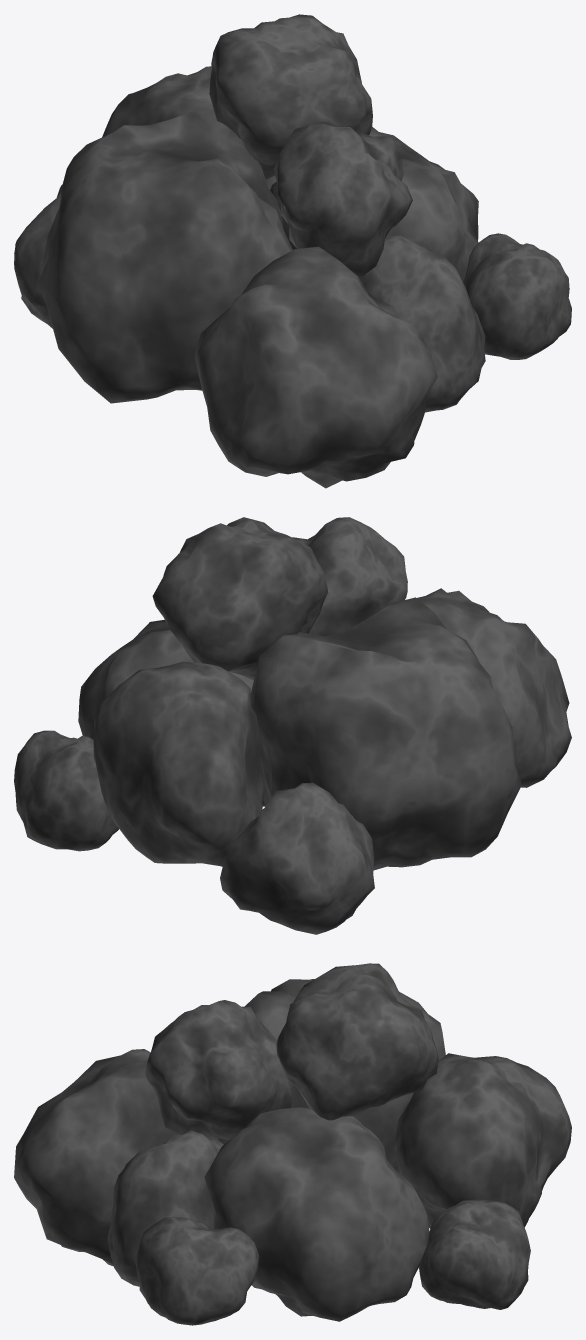
File: boulder_L.glb
3 renders of one model, top to bottom at view 1: azimuth 30°, elevation 25°; view 2: azimuth 150°, elevation 25°; view 3: azimuth 270°, elevation 25°, orthographic. The views are drawn at different scales.
Visible parts, largest first — view 1: BoulderOutcropPlainLarge; view 2: BoulderOutcropPlainLarge; view 3: BoulderOutcropPlainLarge.
Boxes of the visible parts, box(x1,y1,x2,y2) form: BoulderOutcropPlainLarge: box(14, 14, 571, 488); BoulderOutcropPlainLarge: box(14, 517, 571, 934); BoulderOutcropPlainLarge: box(14, 963, 571, 1325).
Bounding box in the file's own units: 6.36 × 4.7 × 7.44.
1 material, 1 textured.
